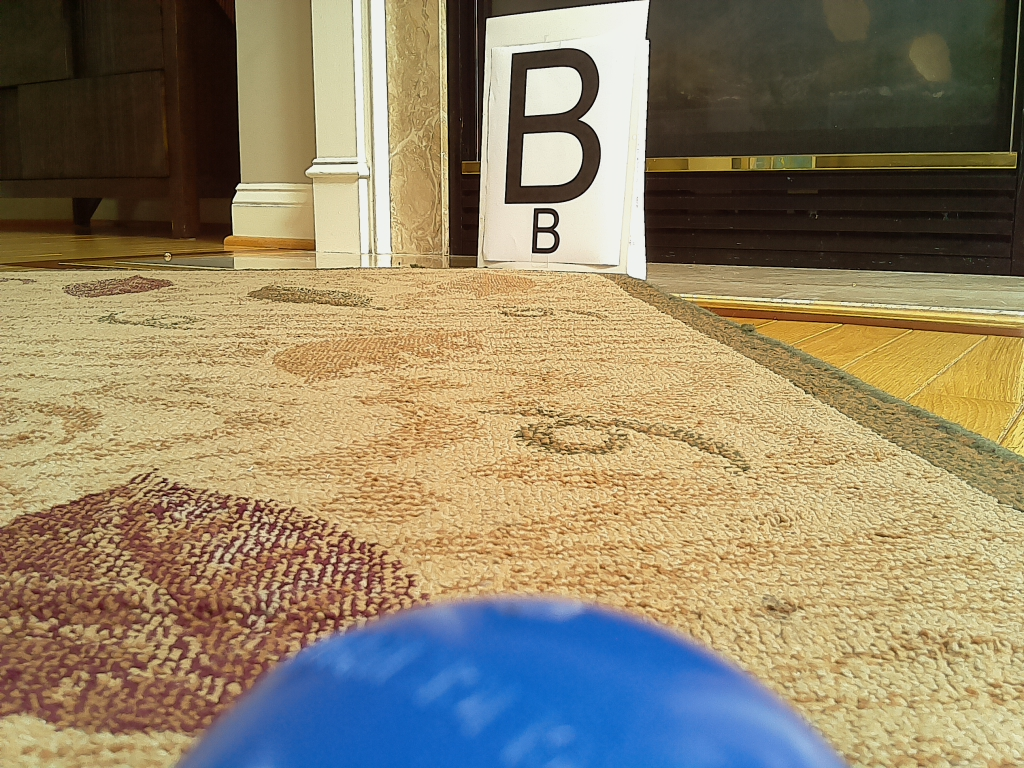letter: (503, 46, 603, 205)
